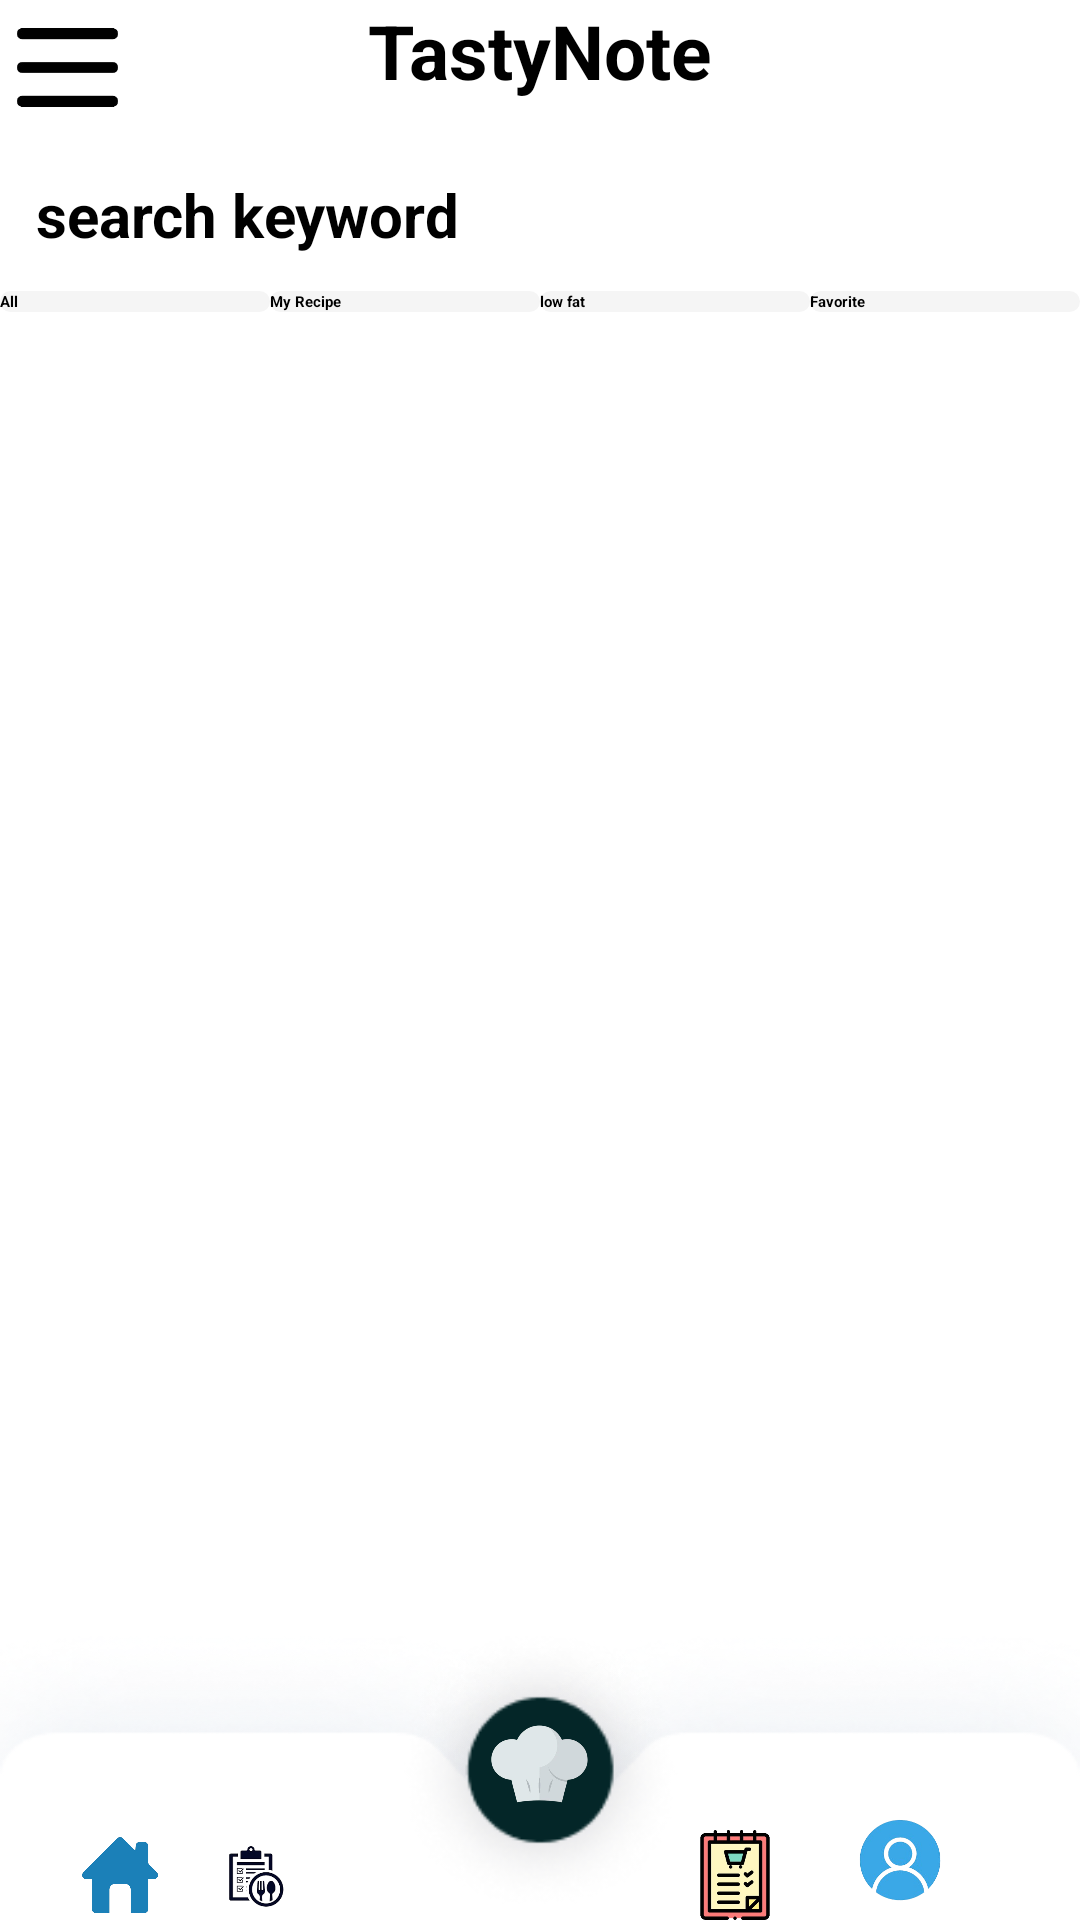

Screen size 1080 x 1920. Icon name, then its center in pixels as (x=x, y=y):
chef hat: (x=539, y=1764)
grocery list: (x=735, y=1875)
